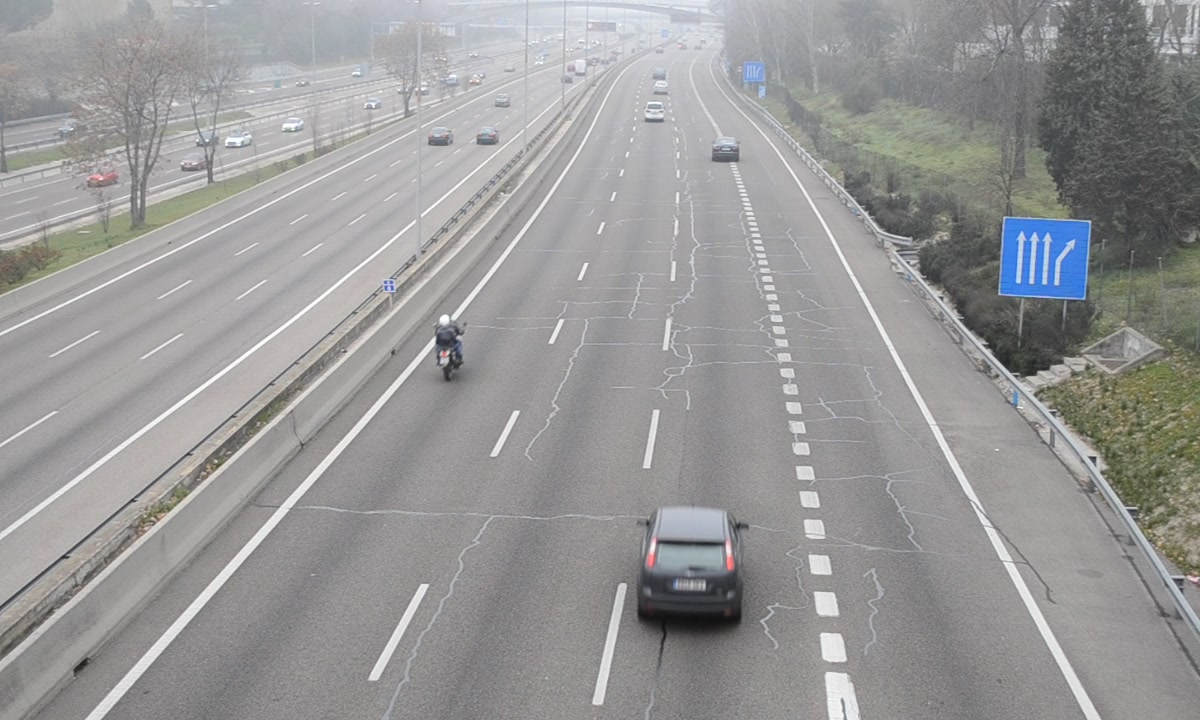car: (636, 507, 744, 623), (711, 137, 739, 162), (644, 102, 666, 123)
motorcycle: (430, 314, 465, 387)
